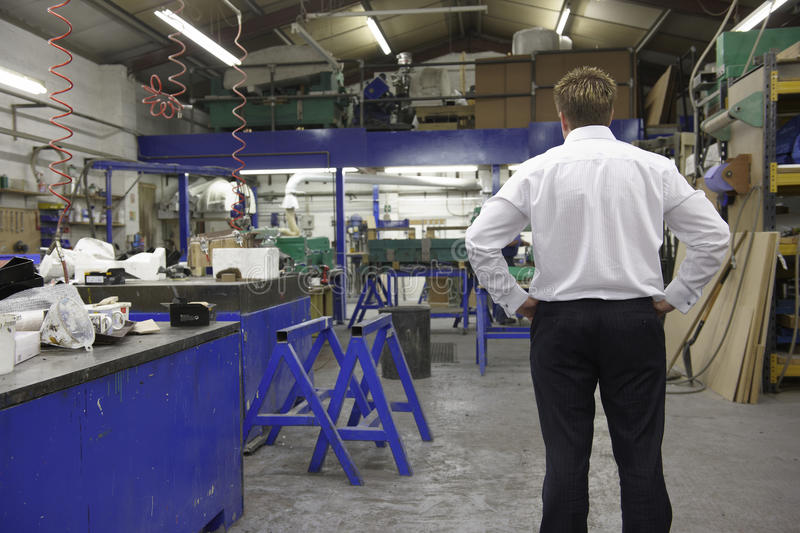person: (466, 66, 729, 533)
